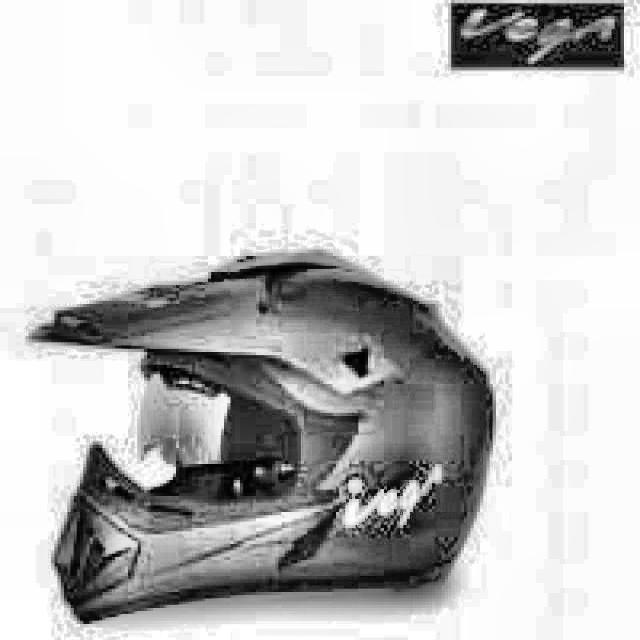Helmet: (19, 243, 495, 626)
